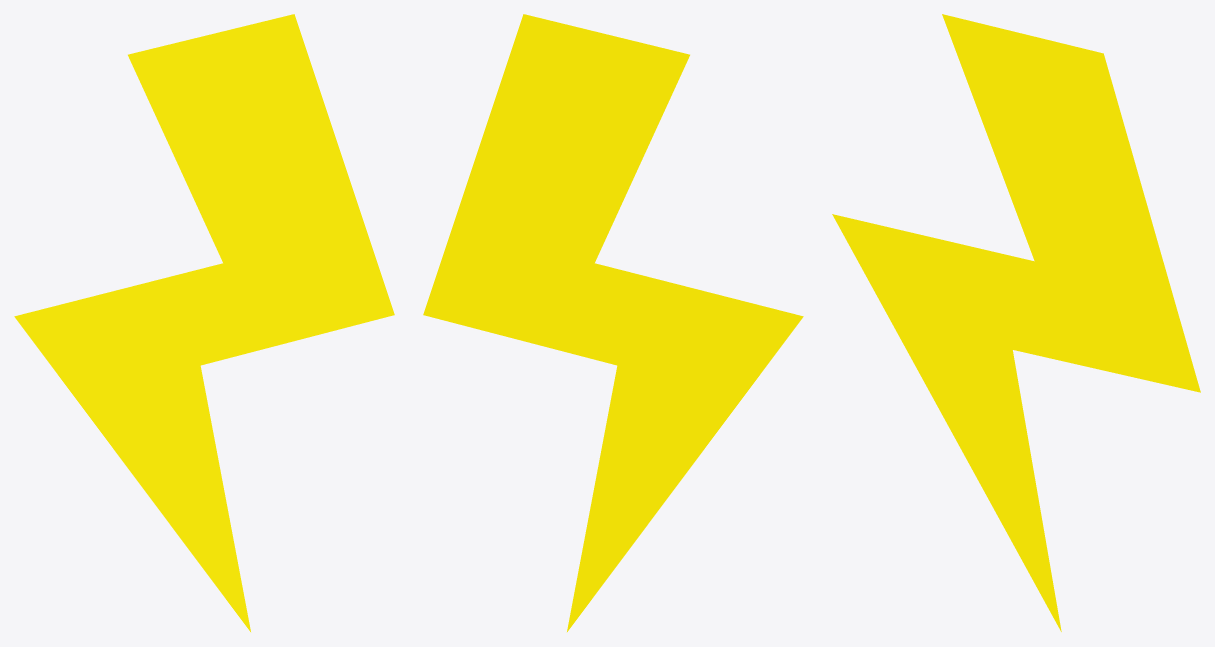
Rendered from faction-symbol3.glb.
3 renders of one model, left to right at view 1: azimuth 30°, elevation 25°; view 2: azimuth 150°, elevation 25°; view 3: azimuth 330°, elevation 25°, orthographic. The views are drawn at different scales.
Visible parts, largest first — view 1: symbol-lightning; view 2: symbol-lightning; view 3: symbol-lightning.
Part boxes in pixels (x1,y1,x2,y2): symbol-lightning: (14,14,394,631); symbol-lightning: (423,14,803,631); symbol-lightning: (832,14,1200,631).
Size of the model in its own units: 0.7059 by 1.08 by 1.27e-07.
1 material, 1 textured.
